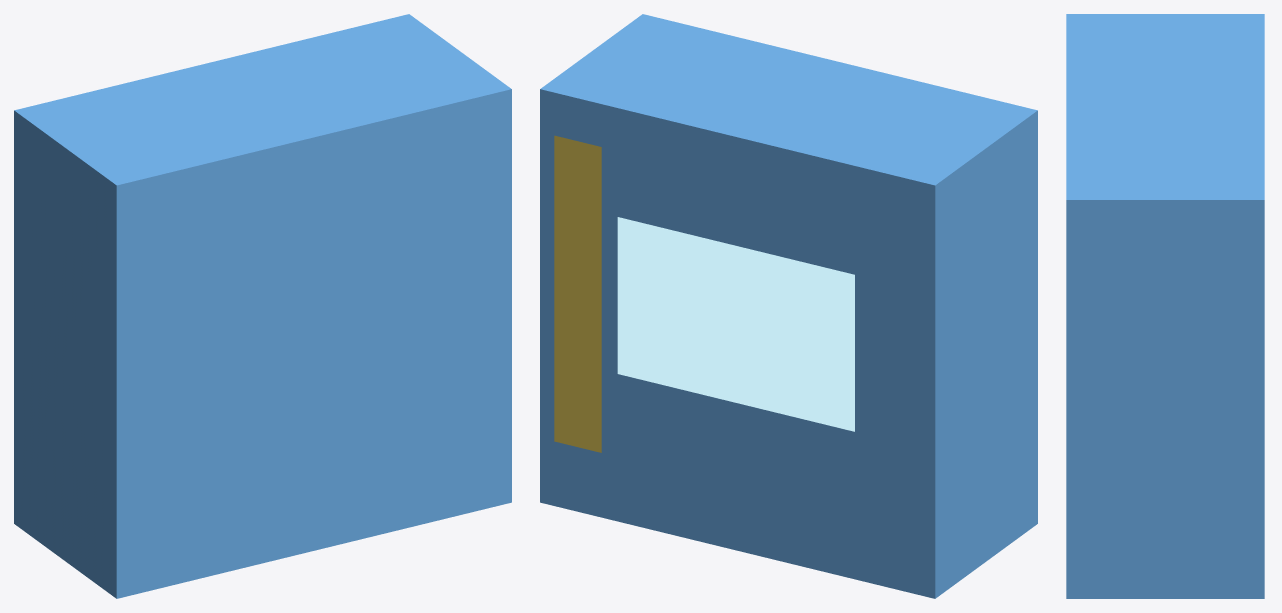
Rendered from ParameterChainDemo.gltf.
3 views of the same model, side by side, from view 1: azimuth 30°, elevation 25°; view 2: azimuth 150°, elevation 25°; view 3: azimuth 270°, elevation 25° (orthographic). The views are drawn at different scales.
Parts seen in each view (by area): view 1: Body; view 2: Body, ScreenSurface, AccentPanel; view 3: Body.
Boxes of the visible parts, x1,y1,x2,y2 form: Body: (14,14,511,598); Body: (540,14,1037,598); ScreenSurface: (617,217,854,431); AccentPanel: (554,135,601,452); Body: (1066,14,1264,598).
Bounding box in the file's own units: 1 × 1 × 0.457.
